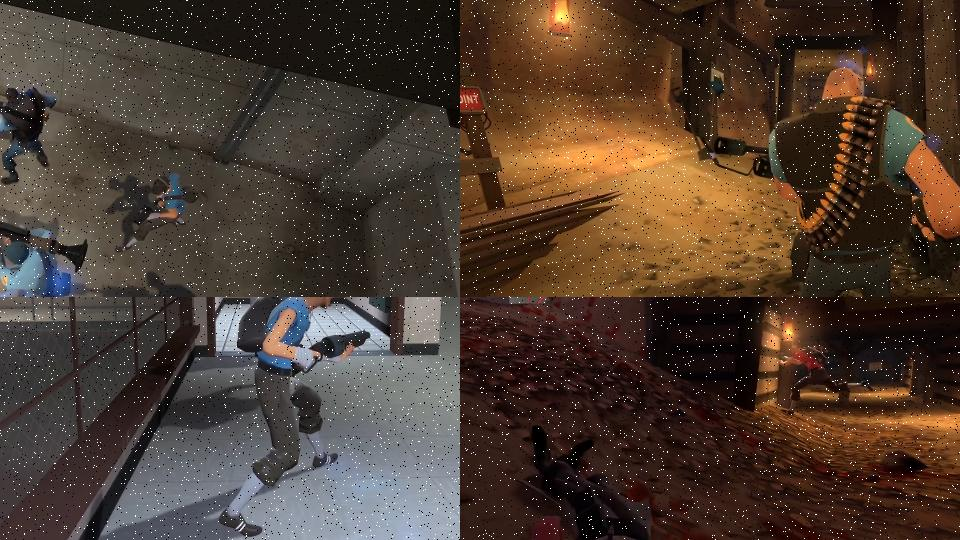Enemy: (508, 420, 885, 540), (767, 65, 960, 297), (217, 297, 372, 539), (112, 166, 205, 258), (0, 208, 92, 297), (776, 339, 874, 416), (0, 83, 61, 187)
